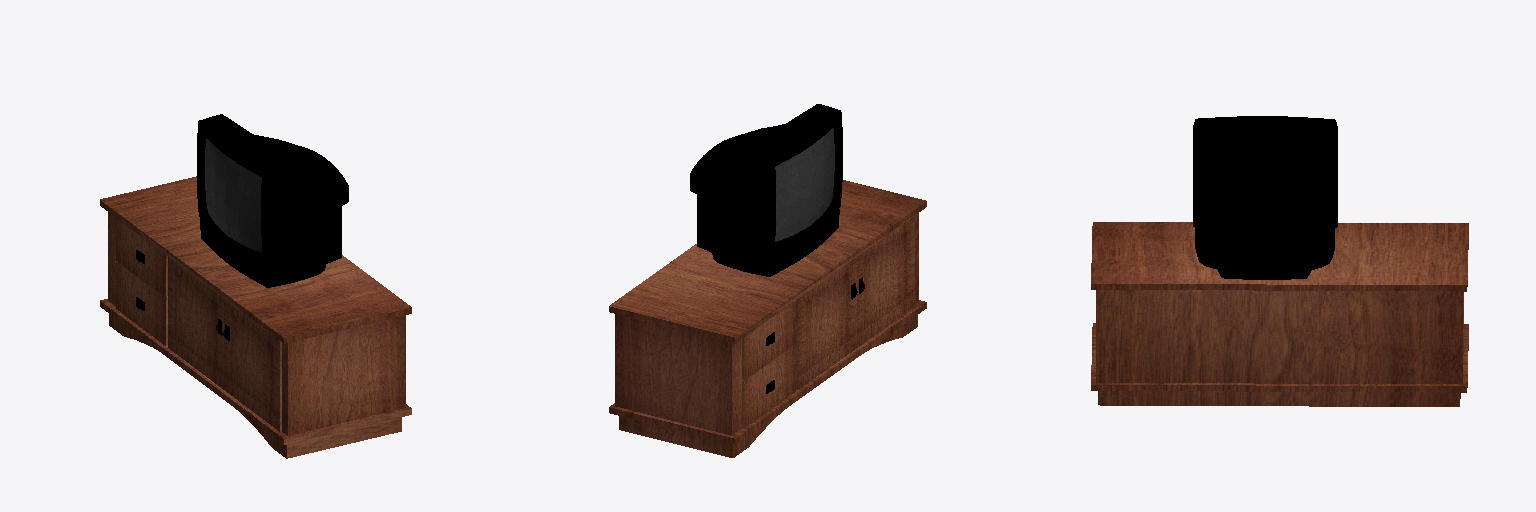
3 views of the same model, side by side, from view 1: azimuth 30°, elevation 25°; view 2: azimuth 150°, elevation 25°; view 3: azimuth 270°, elevation 25° (orthographic).
Visible parts, largest first — view 1: objetosTeoria:initialShadingGroupMesh1; view 2: objetosTeoria:initialShadingGroupMesh1; view 3: objetosTeoria:initialShadingGroupMesh1.
Boxes of the visible parts, box(x1,y1,x2,y2) form: objetosTeoria:initialShadingGroupMesh1: box(100, 114, 411, 458); objetosTeoria:initialShadingGroupMesh1: box(609, 104, 926, 457); objetosTeoria:initialShadingGroupMesh1: box(1091, 116, 1468, 406).
Bounding box in the file's own units: 1.14 × 2.03 × 2.84.
4 materials, 2 textured.